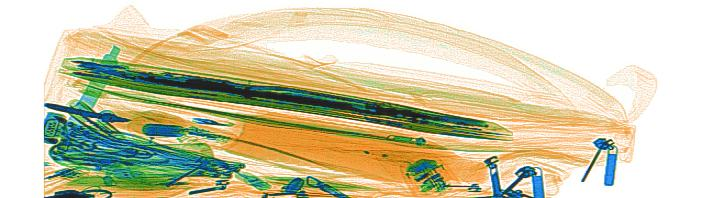battery: (140, 122, 187, 138)
